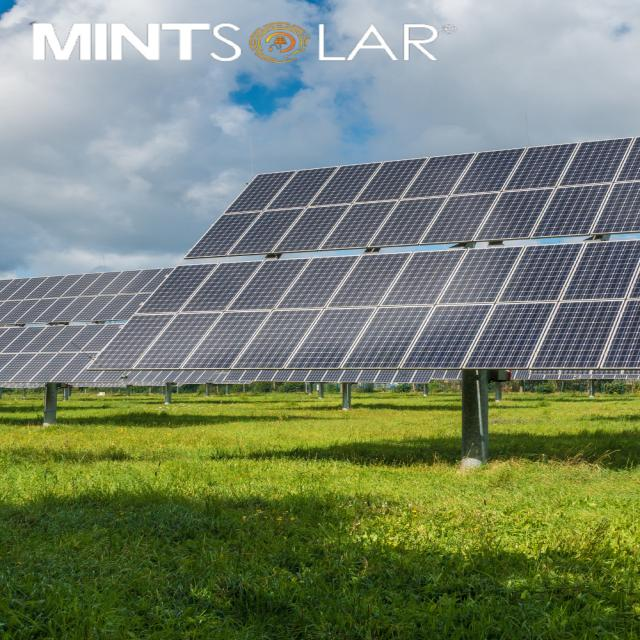dust-solar-panel: (88, 240, 639, 371), (188, 138, 639, 259)
